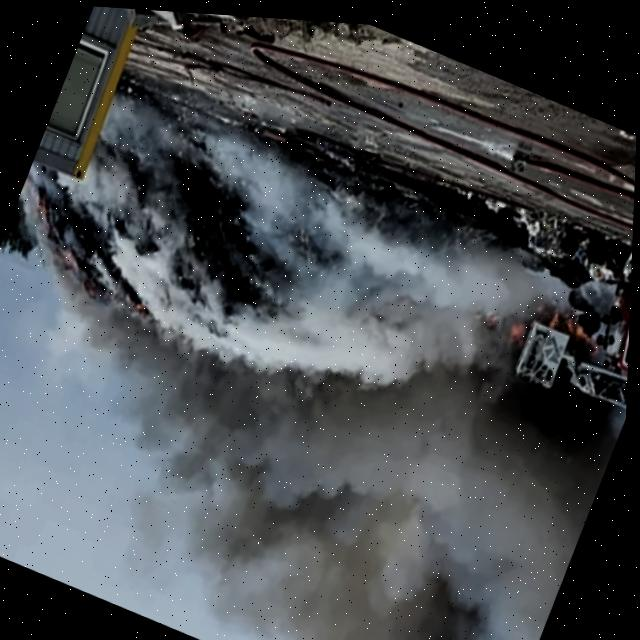Smoke: (0, 53, 638, 640)
